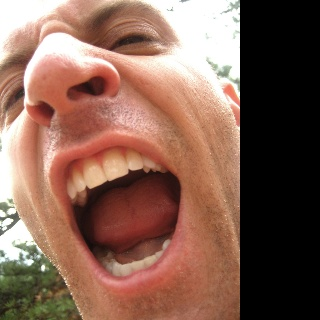without_mask: (0, 0, 240, 320)
